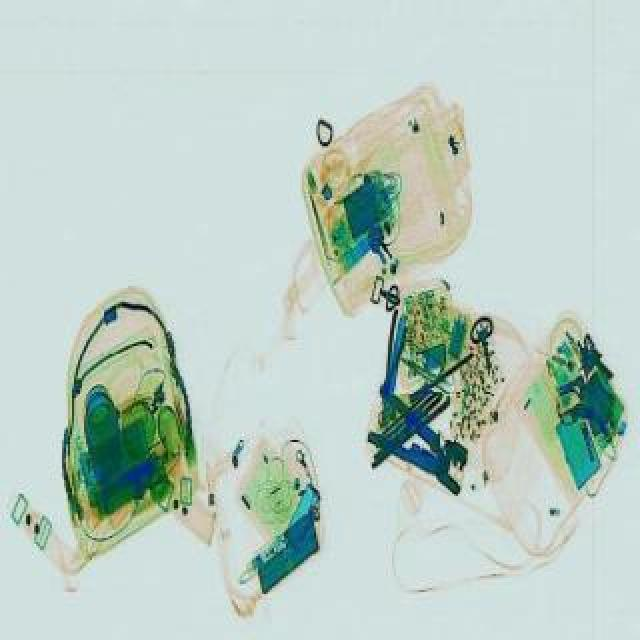wrench: (354, 390, 486, 498)
